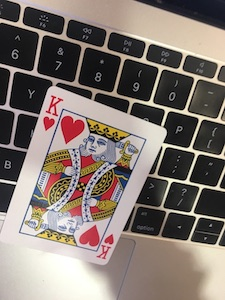KingOfHearts: (1, 84, 167, 266)
